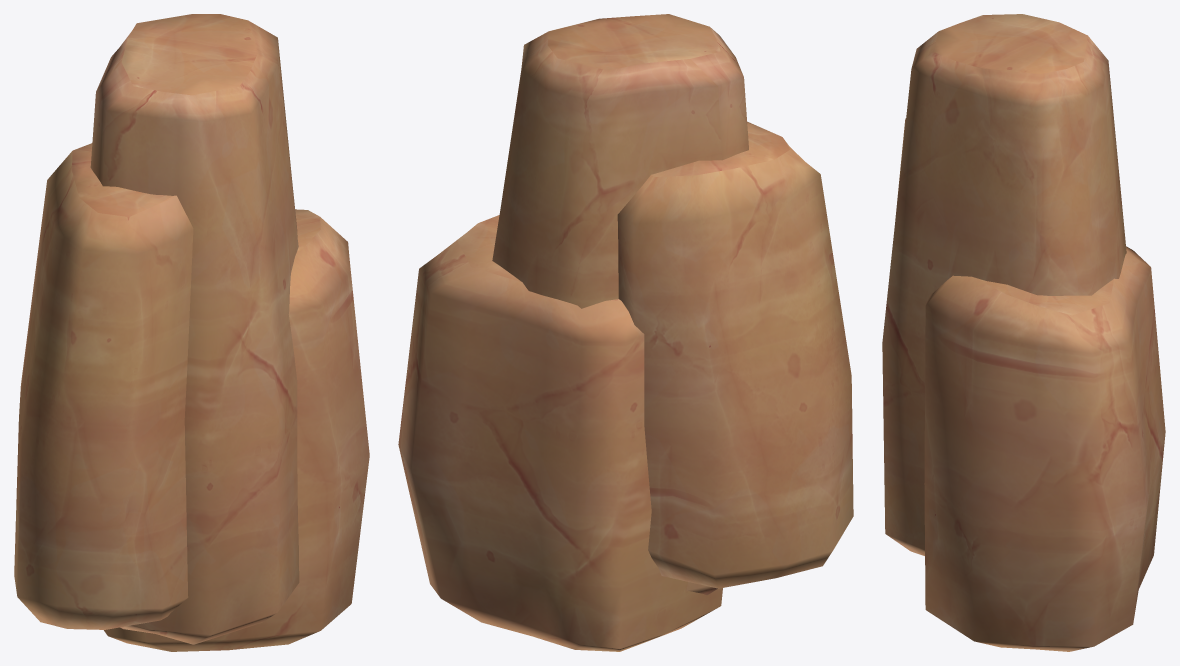
The model's file is SM_RockStack02.fbx.
The picture shows the model from 3 angles, left to right: view 1: azimuth 30°, elevation 25°; view 2: azimuth 150°, elevation 25°; view 3: azimuth 270°, elevation 25°; orthographic projection. The views are drawn at different scales.
Visible parts, largest first — view 1: SM_RockStack02; view 2: SM_RockStack02; view 3: SM_RockStack02.
Boxes of the visible parts, x1,y1,x2,y2 form: SM_RockStack02: [14, 14, 369, 651]; SM_RockStack02: [398, 14, 853, 651]; SM_RockStack02: [882, 14, 1165, 651].
Size of the model in its own units: 642 by 948 by 442.
